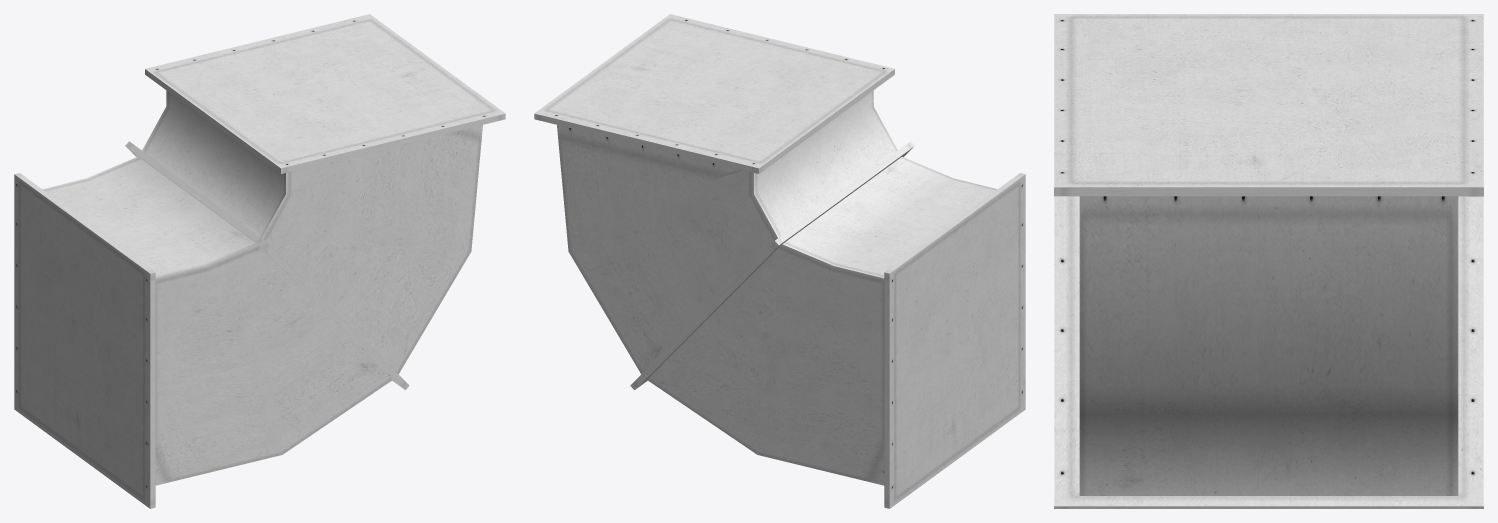
The model's file is d_vent_tube_b.FBX.
3 renders of one model, left to right at view 1: azimuth 30°, elevation 25°; view 2: azimuth 150°, elevation 25°; view 3: azimuth 270°, elevation 25°, orthographic. The views are drawn at different scales.
Visible parts, largest first — view 1: DF_vent0_tube_b; view 2: DF_vent0_tube_b; view 3: DF_vent0_tube_b.
Boxes of the visible parts, <box> form: DF_vent0_tube_b: <box>14,14,505,508</box>; DF_vent0_tube_b: <box>534,14,1025,508</box>; DF_vent0_tube_b: <box>1054,14,1483,508</box>.
Bounding box in the file's own units: 2.54 × 1.69 × 2.11.
